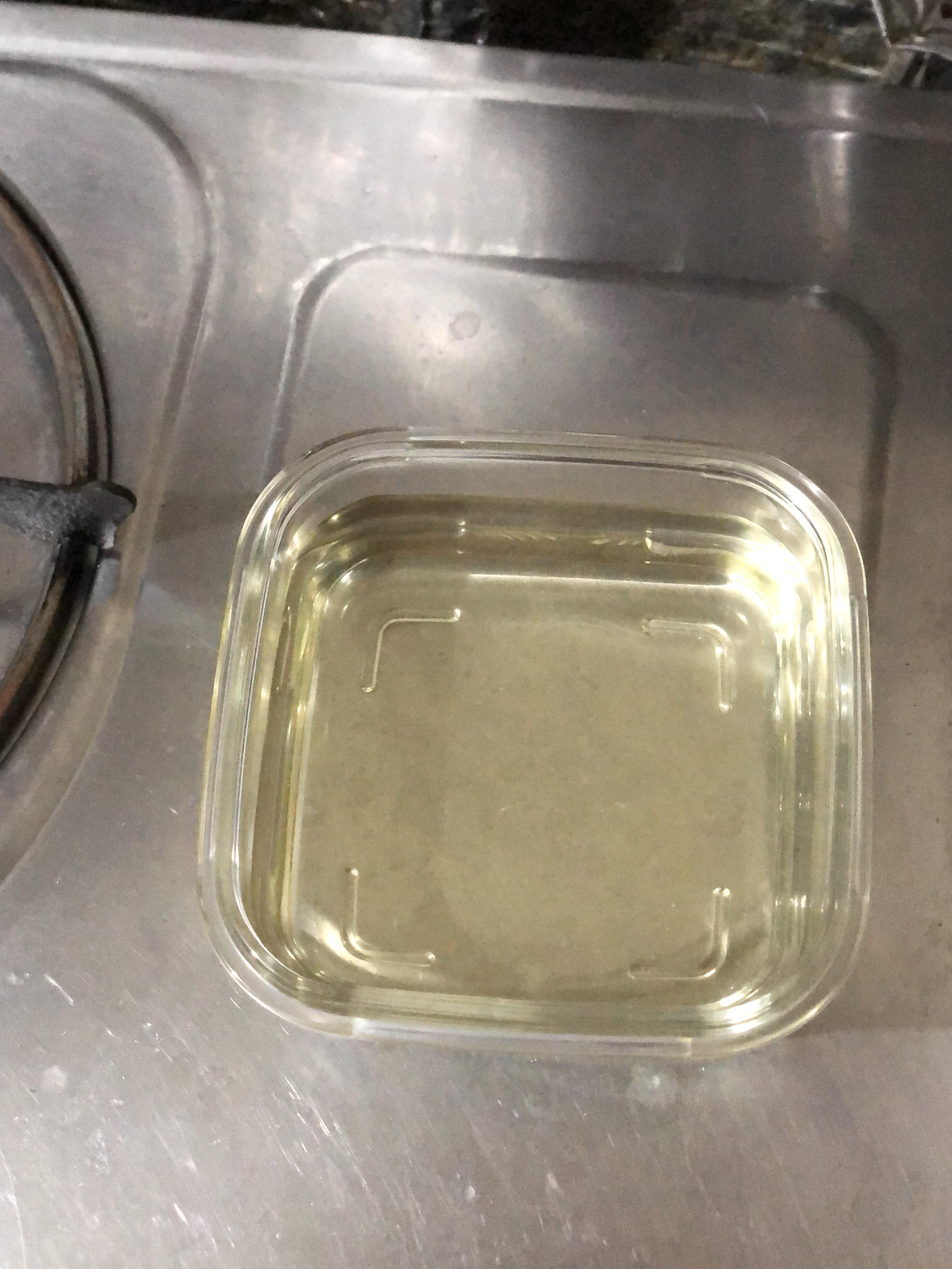reusable: (255, 494, 822, 998)
